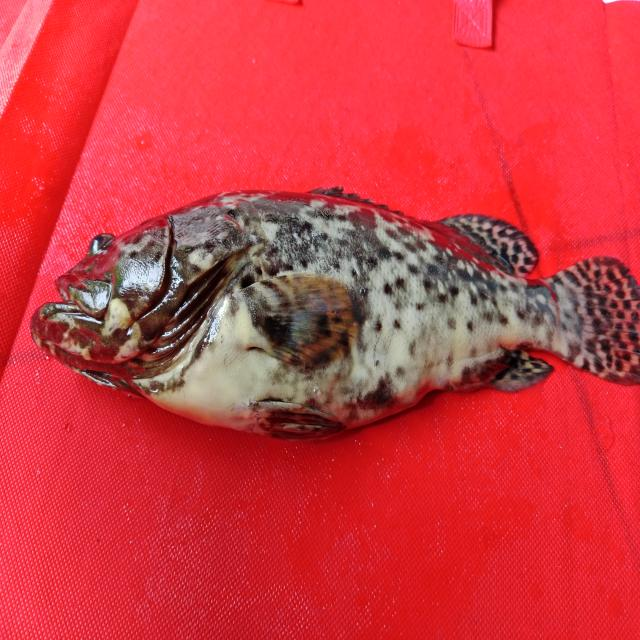ikan: (7, 166, 636, 462)
